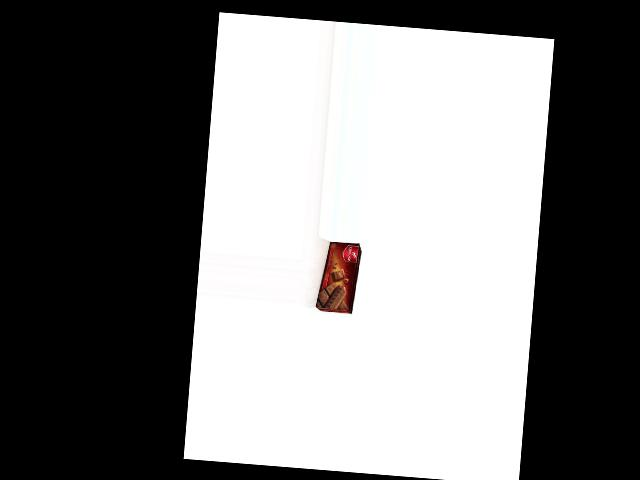chocolate: (314, 240, 362, 313)
